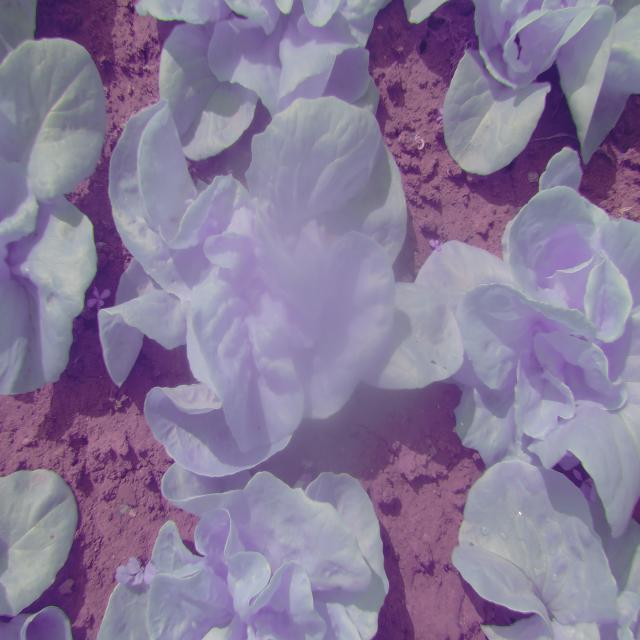vege: (105, 99, 413, 472)
